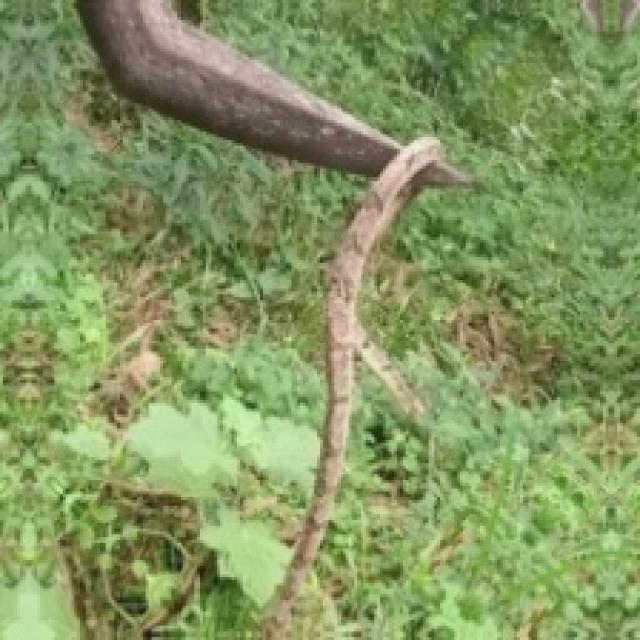dog-toothed cat snake: (261, 138, 442, 640)
